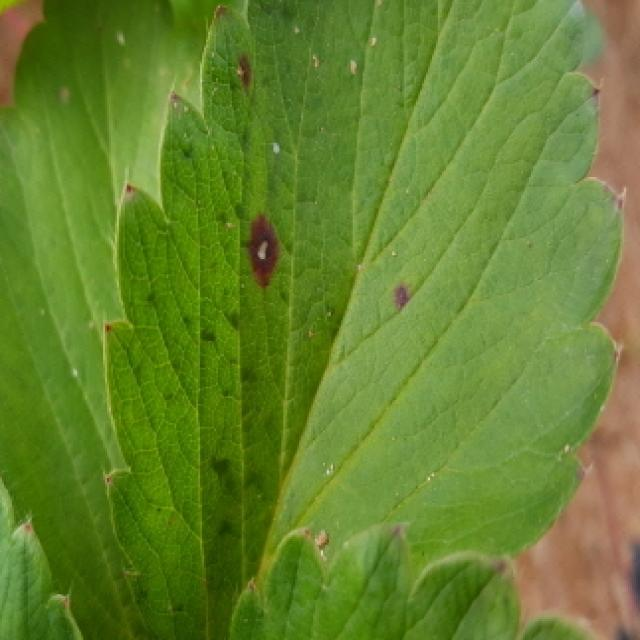Leaf Spot: (101, 0, 627, 640)
